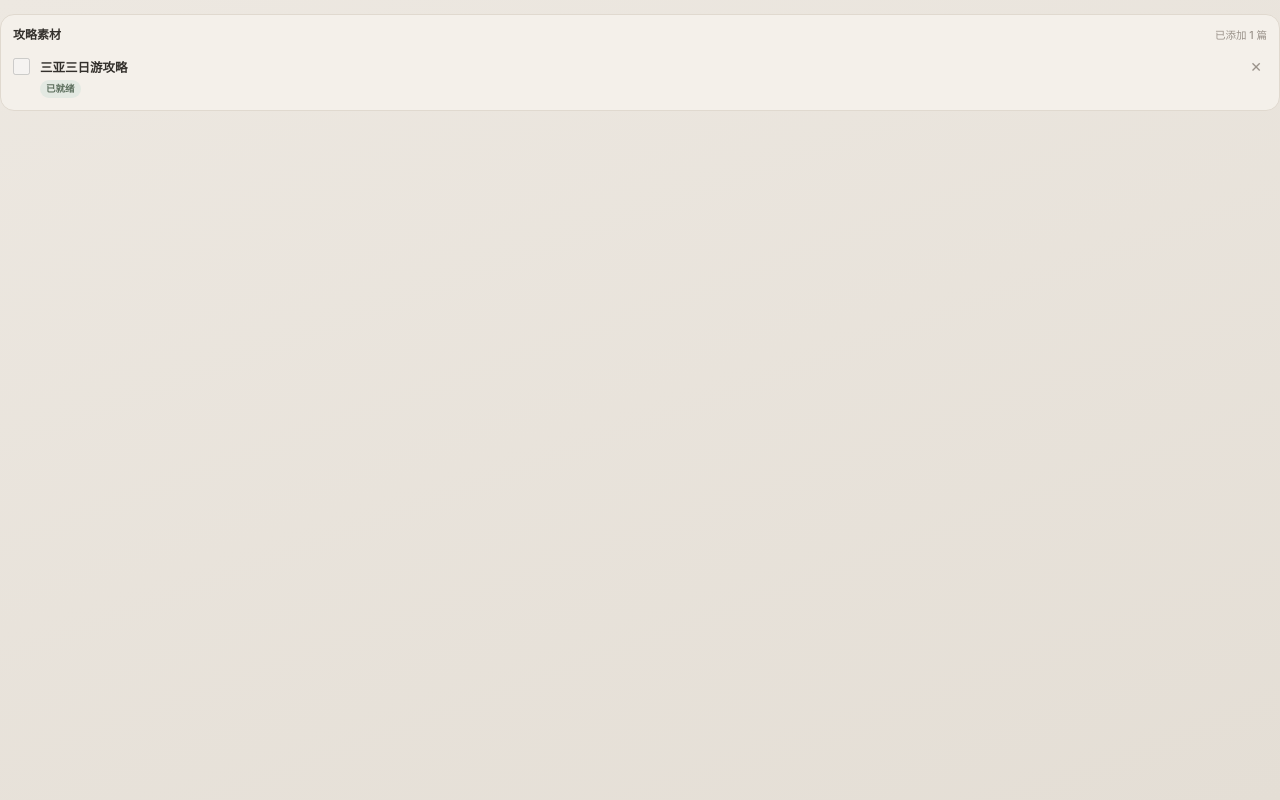
Test: GuideSourceList 删除二次确认（任务 188） › 点 ✕ 先弹二次确认，不立即上抛删除
Click the button named "移除该攻略" at (1256, 67), box [1245,57,1267,77]
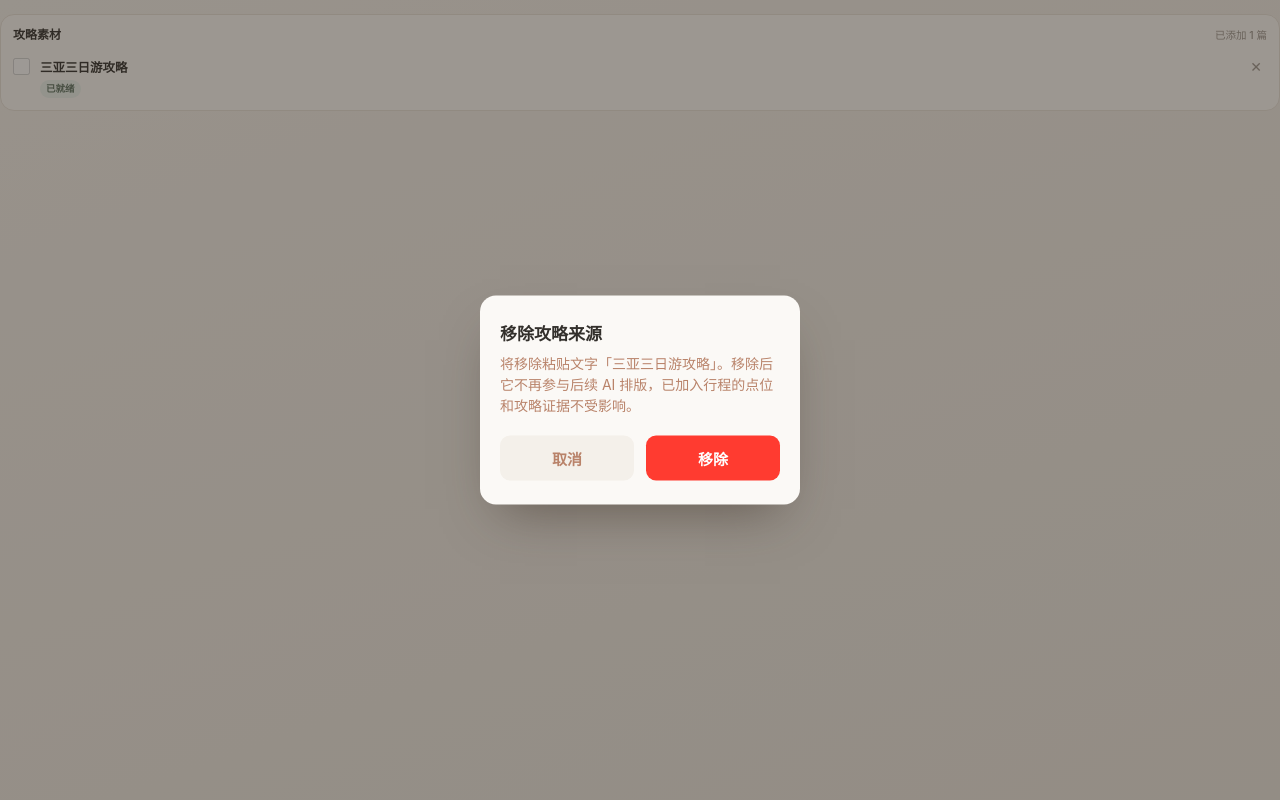
Expected: the dialog "移除攻略来源" is shown, [480,296,800,504]
Expected: the text "将移除粘贴文字「三亚三日游攻略」。移除后它不再参与后续 AI 排版，已加入行程的点位和攻略证据不受影响。" is shown, [500,352,780,416]
